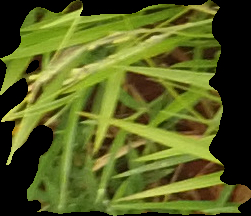grass: (1, 1, 250, 215)
